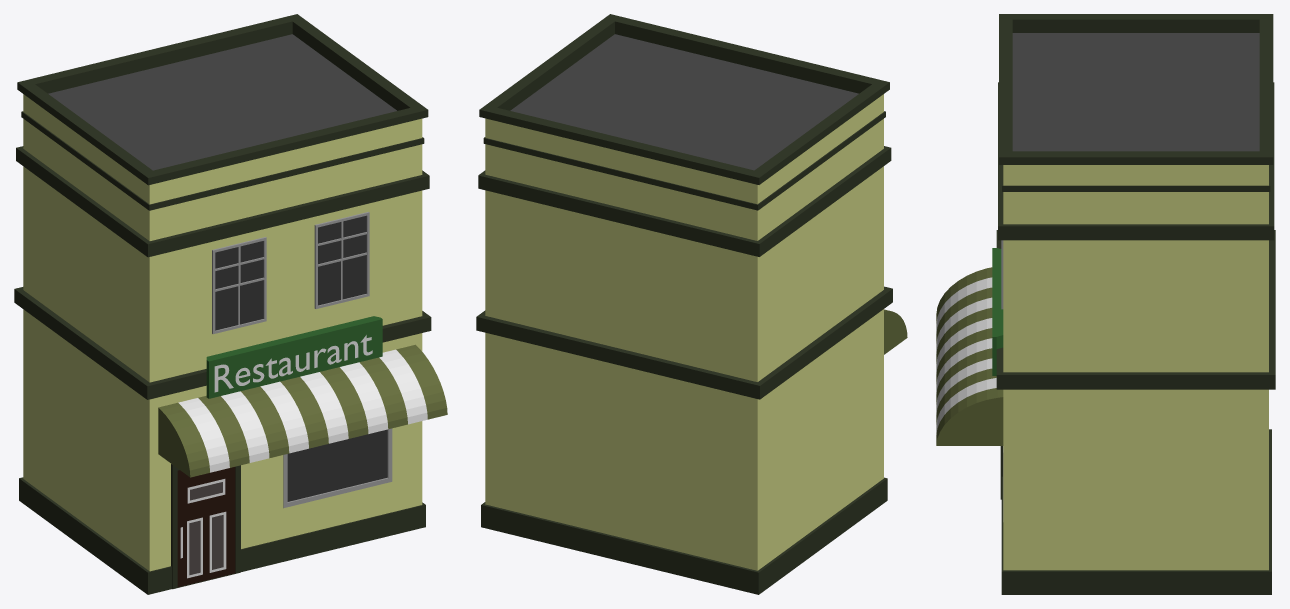
The model's file is Building_Restaurant.fbx.
3 renders of one model, left to right at view 1: azimuth 30°, elevation 25°; view 2: azimuth 150°, elevation 25°; view 3: azimuth 270°, elevation 25°, orthographic. The views are drawn at different scales.
Visible parts, largest first — view 1: Cube, Plane, Text; view 2: Cube; view 3: Cube.
Part boxes in pixels (x1,y1,x2,y2): Cube: (14,14,447,594); Plane: (171,464,240,589); Text: (214,335,372,392); Cube: (476,14,907,594); Cube: (936,14,1275,594).
Bounding box in the file's own units: 710 × 999 × 701.
